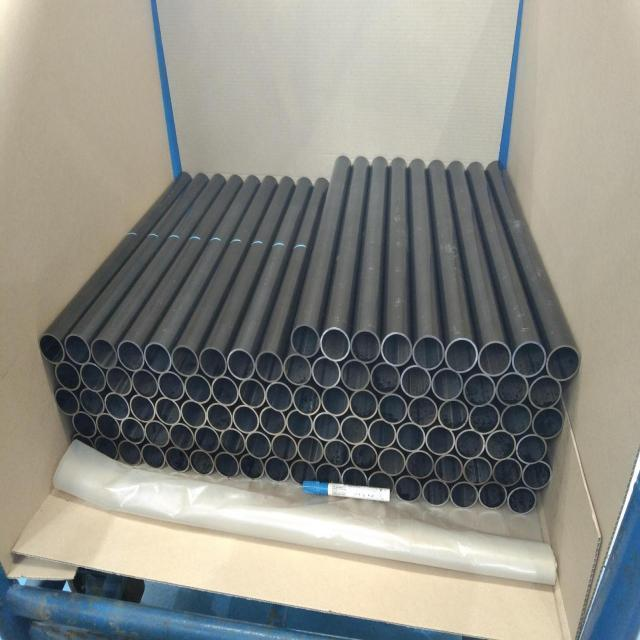pipe: (511, 341, 547, 378), (545, 345, 581, 382), (444, 337, 479, 374), (478, 340, 513, 377), (528, 374, 563, 410), (495, 371, 529, 408), (462, 371, 496, 408), (412, 335, 446, 370), (531, 406, 565, 441), (381, 332, 414, 367), (431, 367, 464, 402), (438, 398, 471, 433), (400, 363, 432, 399), (350, 329, 382, 364), (339, 358, 371, 393), (369, 361, 401, 396), (407, 394, 439, 429), (468, 402, 501, 435), (500, 403, 533, 436), (291, 323, 322, 358), (320, 327, 351, 362), (484, 429, 516, 462), (515, 433, 548, 465), (424, 424, 455, 457), (311, 356, 341, 390), (321, 385, 351, 419), (349, 387, 379, 421), (405, 449, 436, 481), (492, 457, 523, 489), (292, 383, 322, 416), (378, 392, 408, 425), (434, 453, 464, 486), (199, 346, 228, 380), (254, 350, 283, 384), (396, 421, 426, 453), (455, 428, 485, 460), (463, 455, 493, 487), (522, 460, 552, 492), (171, 345, 200, 378), (227, 348, 256, 381), (283, 353, 312, 386), (184, 373, 213, 406), (211, 375, 240, 408), (339, 414, 368, 447), (238, 376, 266, 410), (366, 418, 396, 449), (377, 446, 407, 477), (507, 485, 537, 516), (312, 411, 341, 443), (117, 339, 145, 372), (131, 367, 159, 400), (158, 369, 186, 402), (265, 380, 293, 413), (478, 481, 508, 511), (90, 337, 118, 369), (64, 334, 91, 367), (394, 474, 423, 504), (258, 406, 286, 437), (244, 430, 272, 461), (323, 438, 351, 469), (350, 442, 378, 473), (144, 342, 171, 374), (285, 409, 313, 439), (297, 435, 325, 465), (422, 478, 450, 508), (80, 362, 107, 393), (155, 396, 182, 427), (180, 399, 207, 430), (206, 402, 233, 433), (232, 404, 259, 435), (39, 333, 65, 365), (106, 365, 132, 397), (450, 481, 478, 510), (55, 361, 81, 392), (129, 393, 155, 424), (144, 419, 170, 450), (169, 422, 196, 451), (194, 425, 221, 454), (271, 433, 298, 462), (79, 388, 105, 418), (104, 391, 130, 421), (239, 453, 266, 481), (289, 458, 316, 486), (367, 469, 395, 496), (55, 387, 81, 416), (220, 428, 246, 457), (93, 435, 120, 462), (95, 413, 121, 441), (264, 456, 290, 484), (72, 411, 97, 440), (120, 416, 145, 445), (165, 446, 190, 475), (190, 448, 215, 477), (314, 461, 341, 487), (341, 465, 368, 491), (141, 443, 166, 471), (215, 451, 240, 478), (118, 439, 142, 467)
